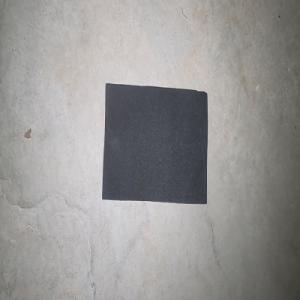PaintChip: (102, 82, 208, 204)
